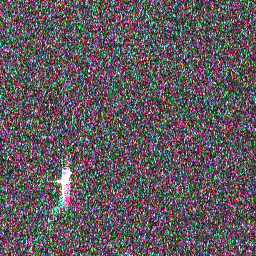ship: (57, 167, 75, 186)
